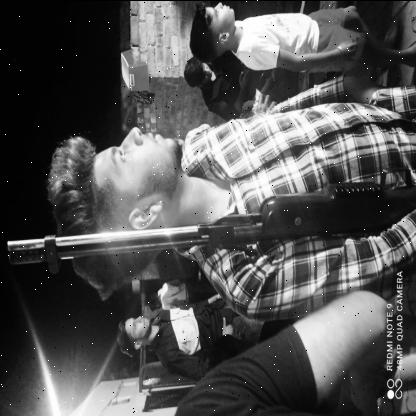rifle: (6, 178, 416, 276)
